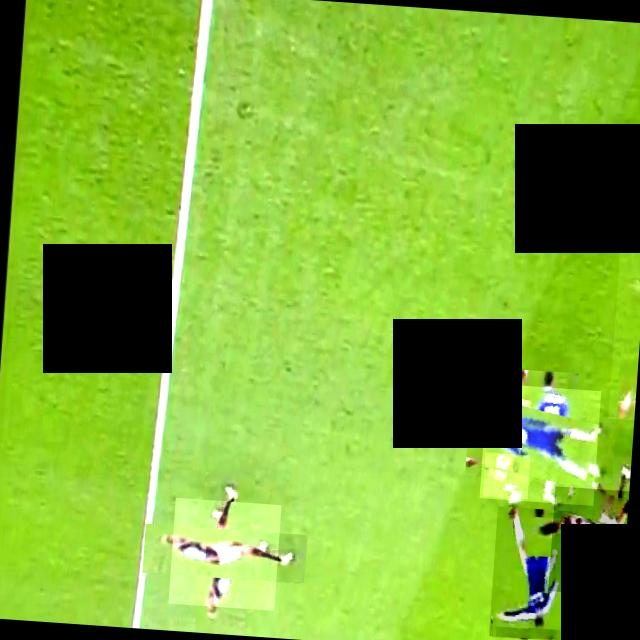ball: (481, 451, 529, 498)
soccer-player: (478, 382, 600, 504), (168, 496, 280, 610), (488, 504, 572, 640), (547, 484, 629, 594), (606, 222, 640, 419)
